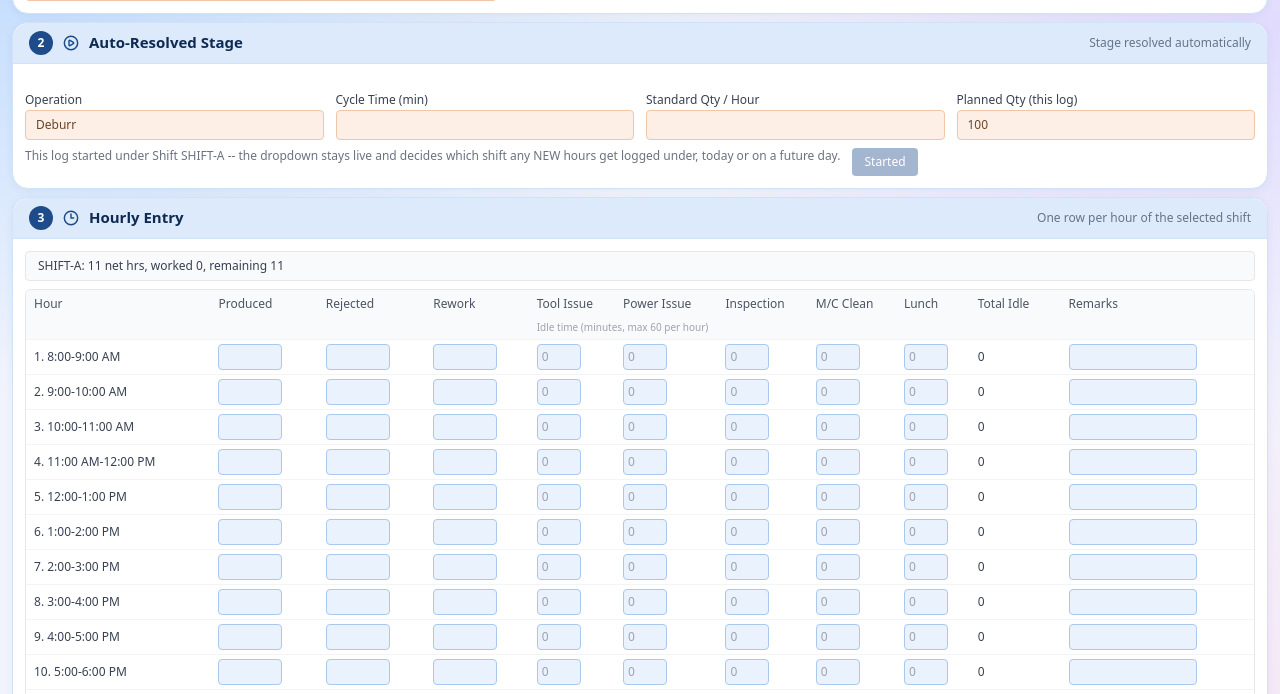
Scenario: Manual Operations: hour qty caps before save › supervisor_override, operator: still blocked
The image size is (1280, 694).
(page scrolled)
Step 1. Type "70" into the number field named "Hour 1 produced" → x=250, y=356, box [218,344,282,370]
(page scrolled)
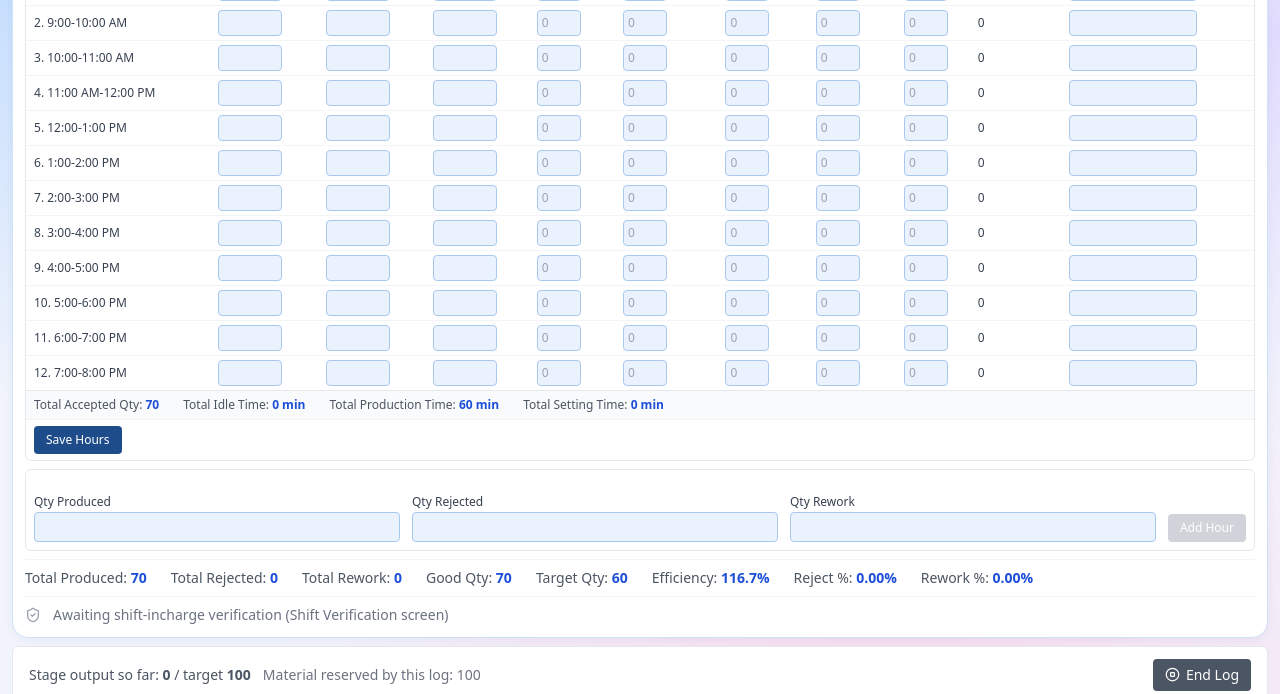
Step 2. Click the button "Save Hours" → x=78, y=440, box [34,426,122,454]
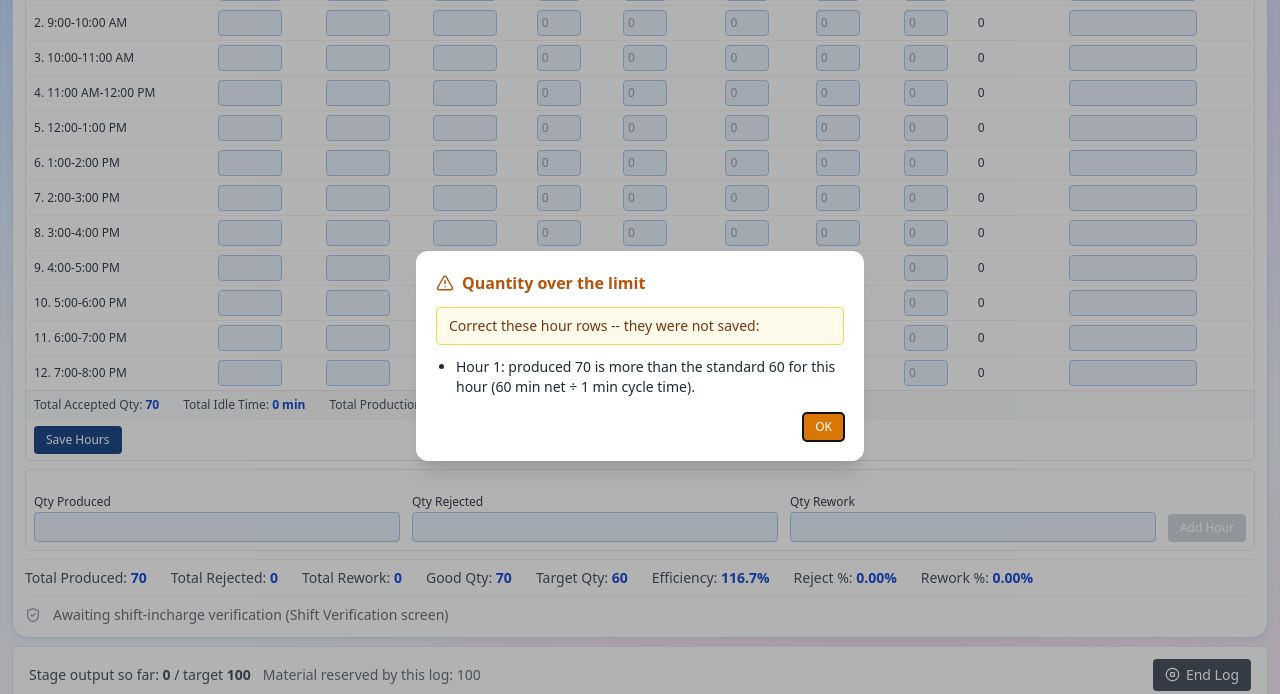
expect the heading "Quantity over the limit" is shown: met, box [462,271,645,295]
